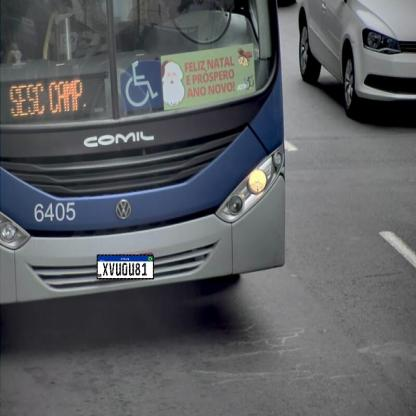PlacaM: (97, 255, 154, 280)
